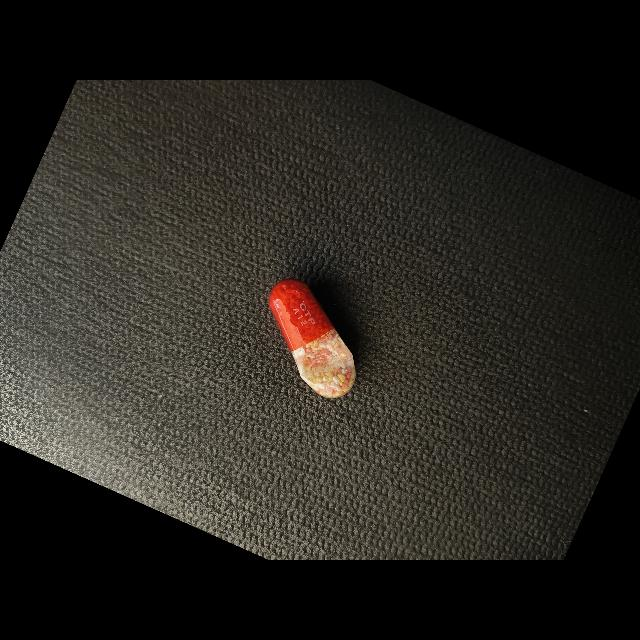Defective Capsule: (269, 279, 356, 398)
